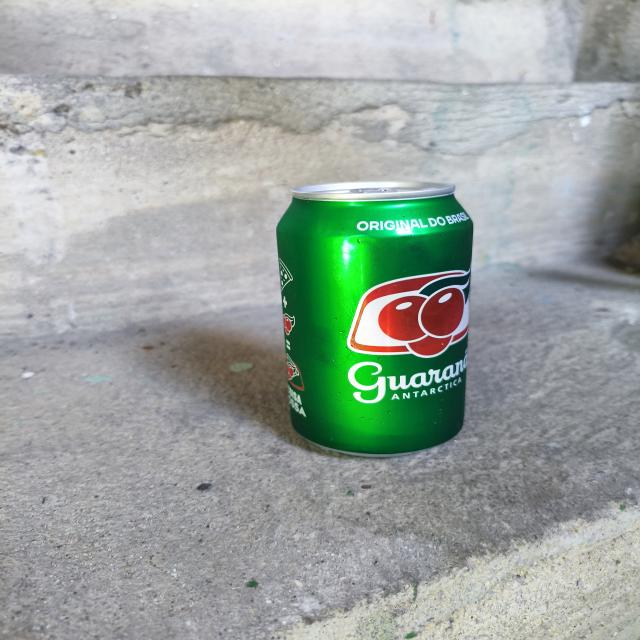Guarana: (260, 171, 502, 461)
